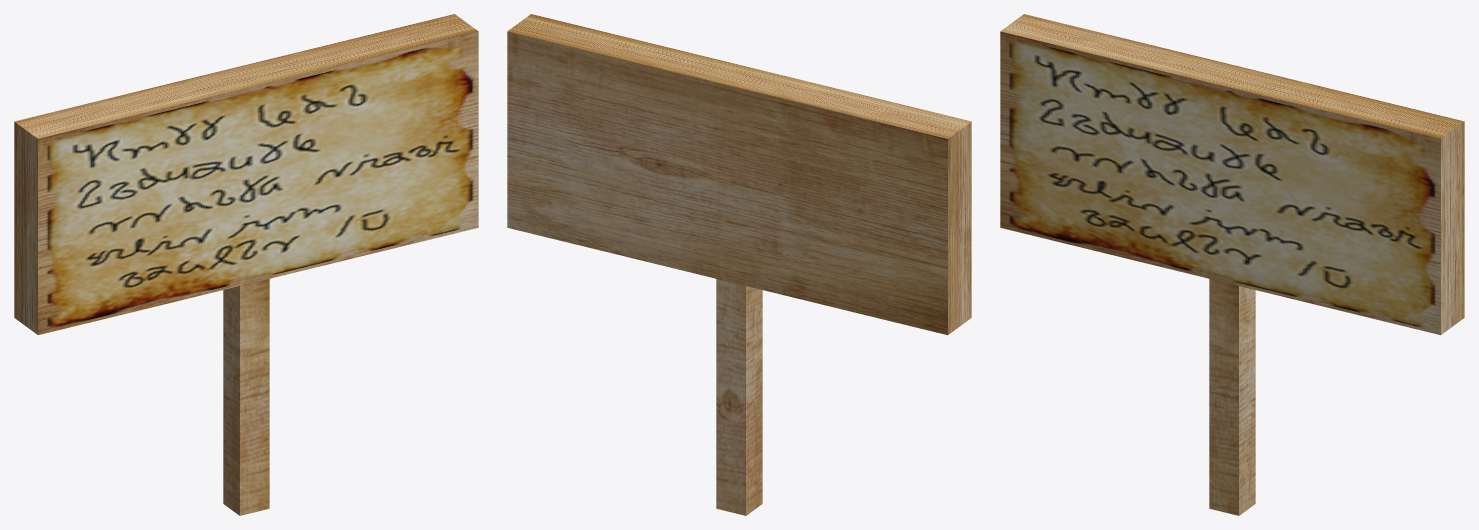
File: Sign64.FBX
The picture shows the model from 3 angles, left to right: view 1: azimuth 30°, elevation 25°; view 2: azimuth 150°, elevation 25°; view 3: azimuth 330°, elevation 25°; orthographic projection.
Parts seen in each view (by area): view 1: Sign_Part_7, Sign_Part_40, Sign_Part_10, Sign_Part_56, Sign_Part_22, Sign_Part_58, Sign_Part_47, Sign_Part_5, Sign_Part_32, Sign_Part_23, Sign_Part_11, Sign_Part_27 (+39 smaller); view 2: Sign_Part_7, Sign_Part_27, Sign_Part_57, Sign_Part_39, Sign_Part_38, Sign_Part_52, Sign_Part_32, Sign_Part_48, Sign_Part_19, Sign_Part_29, Sign_Part_58, Sign_Part_40 (+37 smaller); view 3: Sign_Part_7, Sign_Part_32, Sign_Part_40, Sign_Part_10, Sign_Part_22, Sign_Part_20, Sign_Part_47, Sign_Part_5, Sign_Part_23, Sign_Part_11, Sign_Part_27, Sign_Part_34 (+39 smaller).
Part boxes in pixels (x1,y1,x2,y2): Sign_Part_7: (223,296,269,515); Sign_Part_40: (205,204,271,305); Sign_Part_10: (14,231,127,295); Sign_Part_56: (14,242,71,335); Sign_Part_22: (237,61,299,132); Sign_Part_58: (14,151,60,239); Sign_Part_47: (359,119,454,178); Sign_Part_5: (236,119,305,178); Sign_Part_32: (413,137,478,207); Sign_Part_23: (109,95,182,156); Sign_Part_11: (45,190,129,240); Sign_Part_27: (182,66,248,148); Sign_Part_7: (716,295,762,515); Sign_Part_27: (715,73,800,156); Sign_Part_57: (735,173,810,265); Sign_Part_39: (658,216,754,311); Sign_Part_38: (891,110,971,185); Sign_Part_52: (779,80,844,155); Sign_Part_32: (507,140,573,204); Sign_Part_48: (836,104,925,171); Sign_Part_19: (645,158,723,220); Sign_Part_29: (778,252,862,314); Sign_Part_58: (924,134,971,247); Sign_Part_40: (713,205,769,298); Sign_Part_7: (1209,299,1255,515); Sign_Part_32: (1375,231,1464,301); Sign_Part_40: (1167,190,1233,299); Sign_Part_10: (1000,131,1090,205); Sign_Part_22: (1199,69,1269,131); Sign_Part_20: (1367,283,1464,335); Sign_Part_47: (1321,187,1416,239); Sign_Part_5: (1198,128,1267,189); Sign_Part_23: (1071,37,1144,105); Sign_Part_11: (1006,107,1091,171); Sign_Part_27: (1167,55,1248,138); Sign_Part_34: (1405,157,1464,237).
Size of the model in its own units: 14.92 by 13.91 by 1.4.
